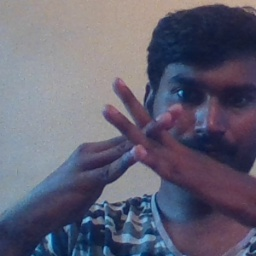W: (79, 73, 217, 210)
